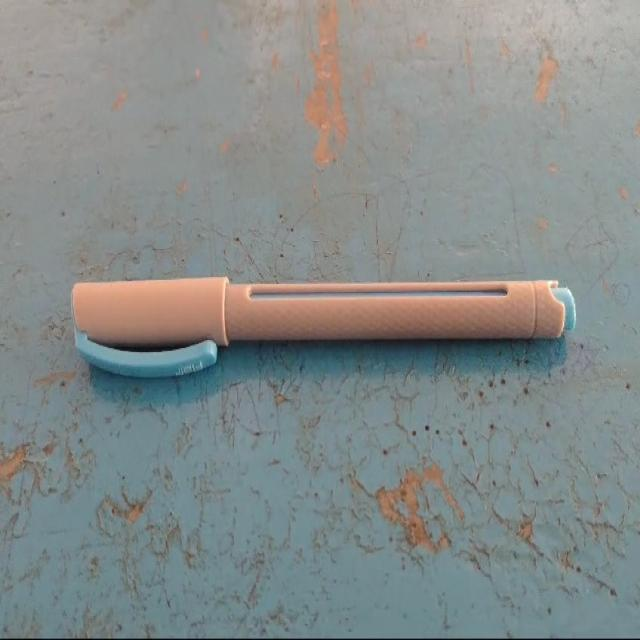pen: (51, 216, 616, 446)
